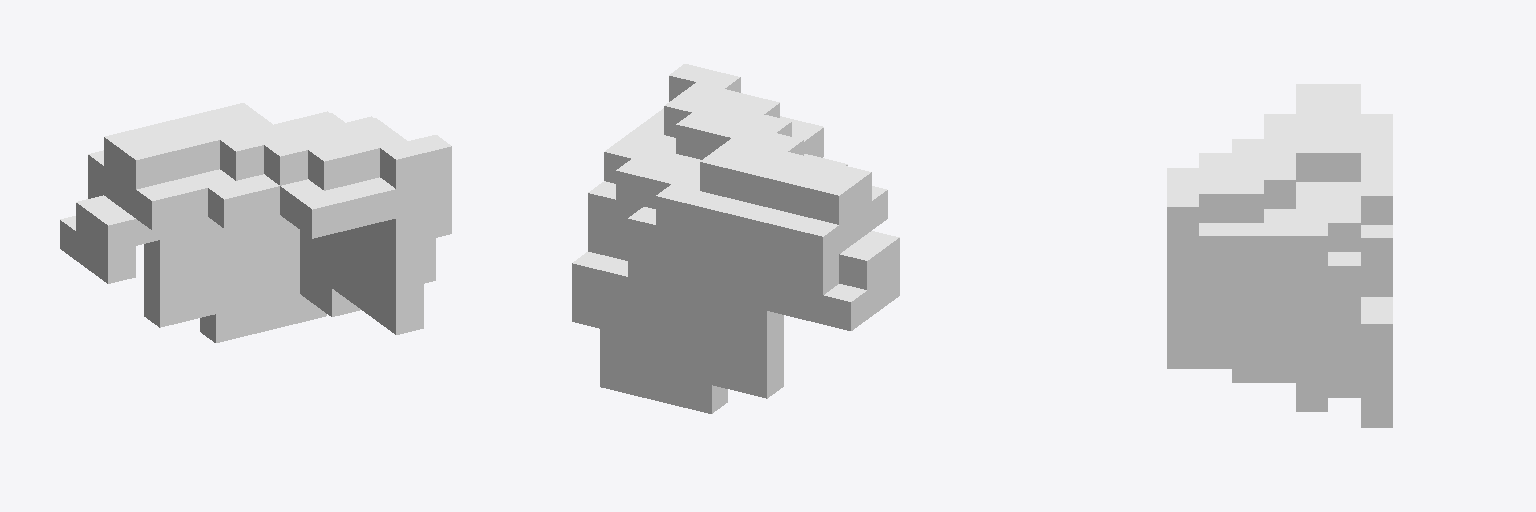
Rendered from hair07.obj.
The picture shows the model from 3 angles: view 1: azimuth 30°, elevation 25°; view 2: azimuth 150°, elevation 25°; view 3: azimuth 270°, elevation 25°; orthographic projection.
Parts seen in each view (by area): view 1: object 1; view 2: object 1; view 3: object 1.
Part boxes in pixels (left/top/right/bottom): object 1: left=60, top=103, right=451, bottom=342; object 1: left=572, top=64, right=899, bottom=413; object 1: left=1167, top=84, right=1392, bottom=427.
Bounding box in the file's own units: 1 × 0.8 × 0.7.